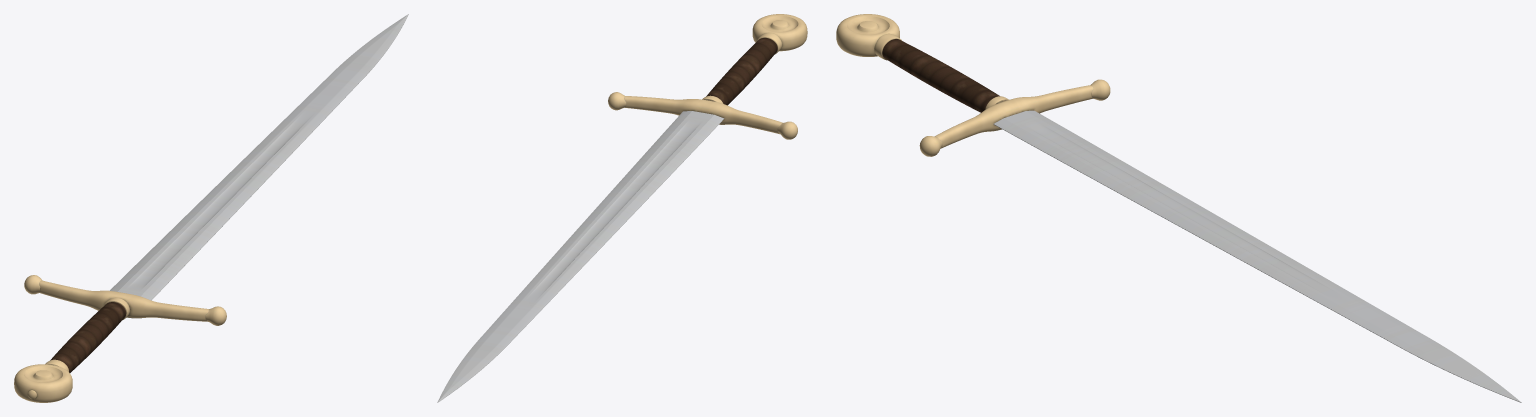
File: sword.glb
The picture shows the model from 3 angles, left to right: view 1: azimuth 30°, elevation 25°; view 2: azimuth 210°, elevation 25°; view 3: azimuth 270°, elevation 25°; orthographic projection. The views are drawn at different scales.
Visible parts, largest first — view 1: Blade, Guard, Fittings, Grip; view 2: Blade, Guard, Grip, Fittings; view 3: Blade, Guard, Grip, Fittings.
Boxes of the visible parts, box(x1,y1,x2,y2) form: Blade: box(109, 14, 408, 300); Guard: box(24, 275, 226, 325); Fittings: box(14, 297, 130, 402); Grip: box(50, 302, 126, 372); Blade: box(437, 111, 724, 402); Guard: box(608, 92, 797, 139); Grip: box(706, 38, 777, 105); Fittings: box(702, 14, 807, 103); Blade: box(993, 110, 1521, 402); Guard: box(919, 79, 1110, 156); Grip: box(882, 39, 999, 112); Fittings: box(836, 14, 1008, 109).
Size of what is drawn, in the model's own units: 0.8696 by 0.0287 by 0.6864.
4 materials, 4 textured.
